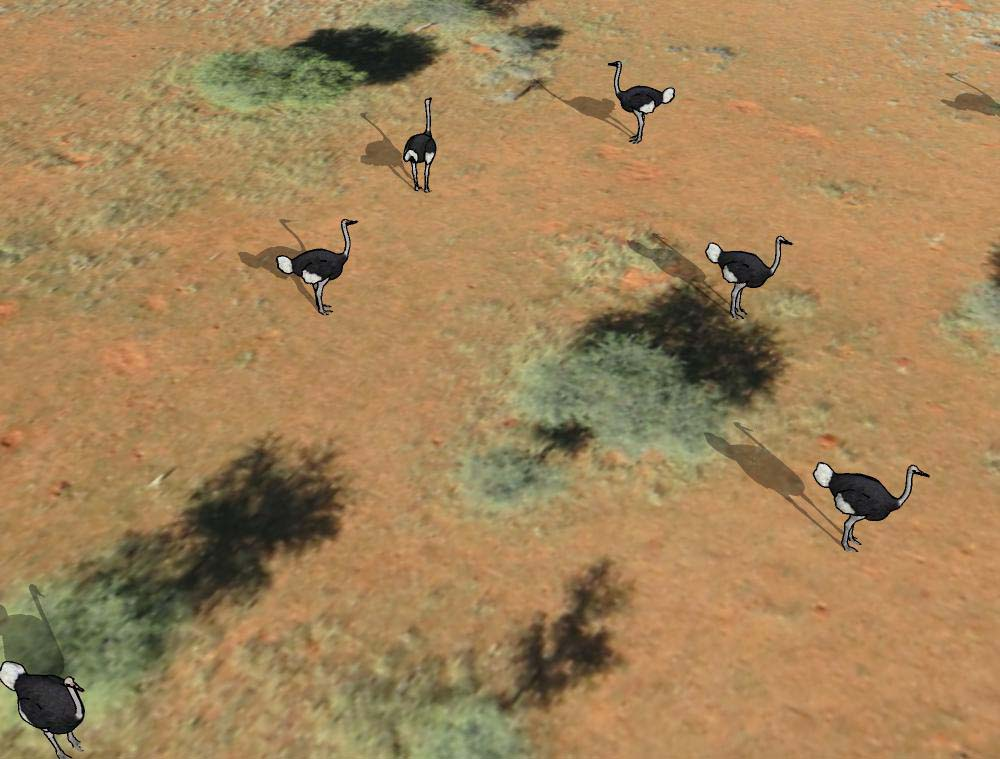ostrich: (808, 450, 929, 555), (1, 659, 103, 757), (276, 213, 357, 317), (701, 233, 792, 320), (599, 57, 677, 146), (400, 96, 443, 194)
